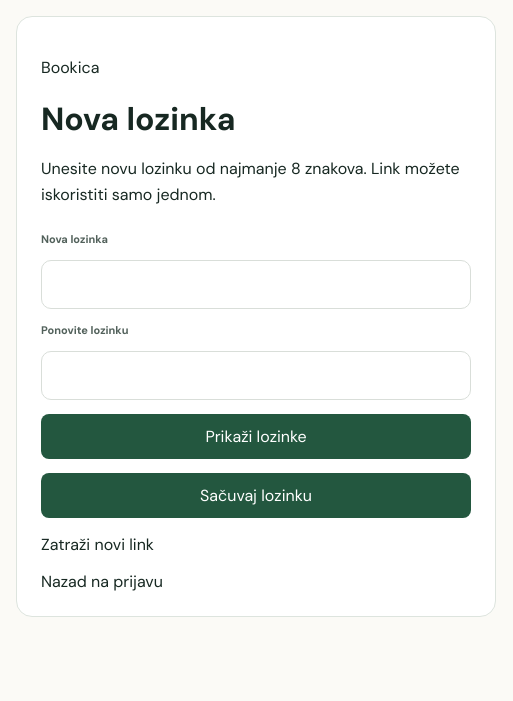
offers a new link after rejected token (400)
The width and height of the screenshot is (513, 701).
Type "new-password-42" into the password field labelled "Nova lozinka".
click(256, 285); type("new-password-42")  # box x1=41 y1=260 x2=471 y2=309
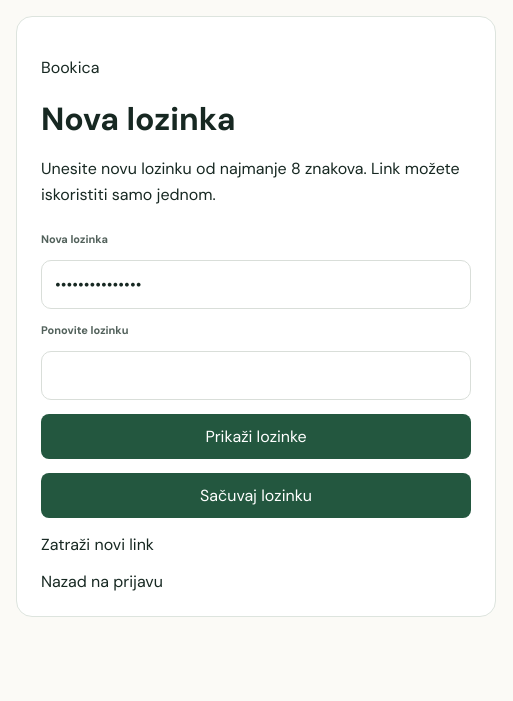
Type "new-password-42" into the password field labelled "Ponovite lozinku".
click(256, 376); type("new-password-42")  # box x1=41 y1=351 x2=471 y2=400
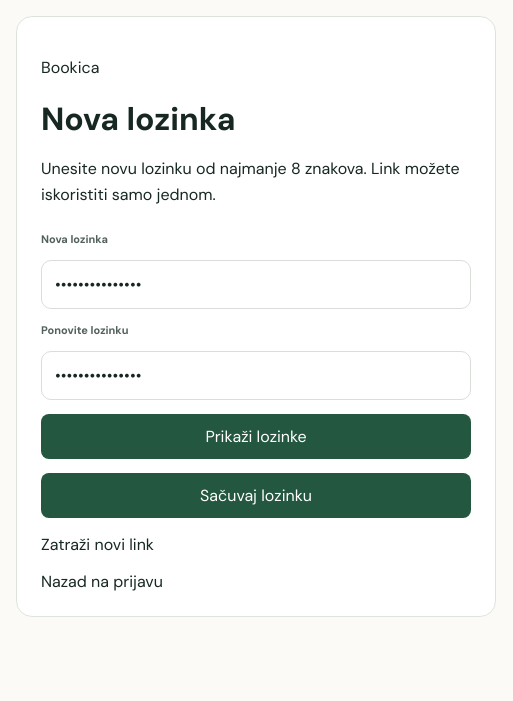
Click the button "Sačuvaj lozinku".
click(256, 496)  # box x1=41 y1=473 x2=471 y2=518
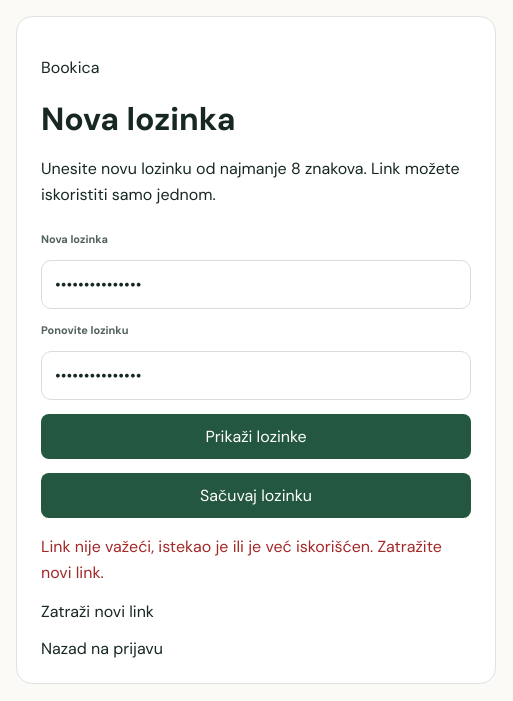
Now the message shows "Zatražite novi link", box x1=41 y1=536 x2=442 y2=583
